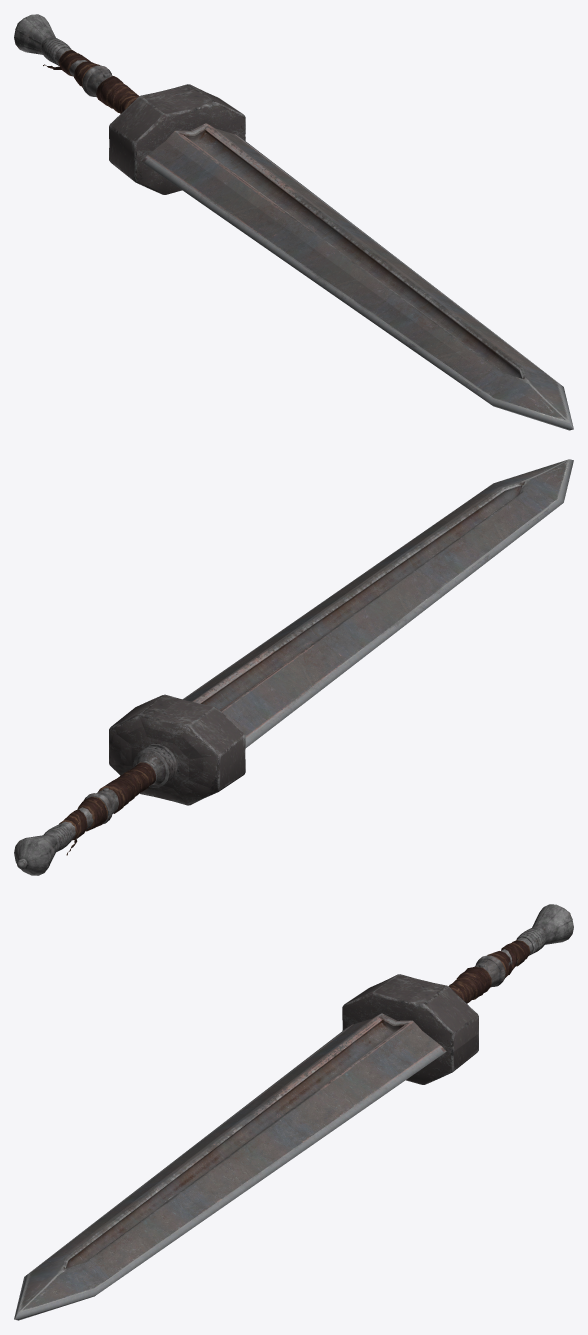
3 renders of one model, top to bottom at view 1: azimuth 30°, elevation 25°; view 2: azimuth 150°, elevation 25°; view 3: azimuth 330°, elevation 25°, orthographic.
Visible parts, largest first — view 1: WP_A_0612, WP_A_0612.001; view 2: WP_A_0612, WP_A_0612.001; view 3: WP_A_0612, WP_A_0612.001.
Boxes of the visible parts, left/top/right/bottom form: WP_A_0612: left=14, top=14, right=573, bottom=430; WP_A_0612.001: left=43, top=49, right=138, bottom=113; WP_A_0612: left=14, top=459, right=573, bottom=875; WP_A_0612.001: left=59, top=762, right=155, bottom=855; WP_A_0612: left=14, top=904, right=573, bottom=1320; WP_A_0612.001: left=449, top=940, right=530, bottom=1003.
Bounding box in the file's own units: 27.21 × 18.82 × 234.
2 materials, 2 textured.
